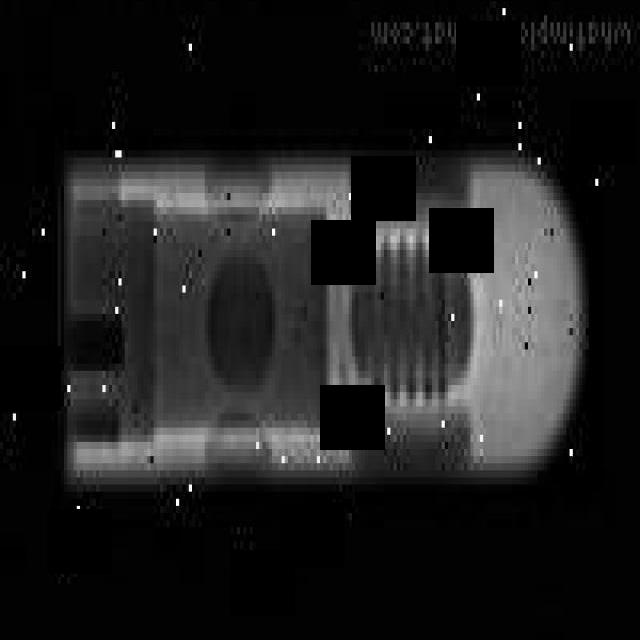Root canal obturation: (56, 134, 601, 505)
